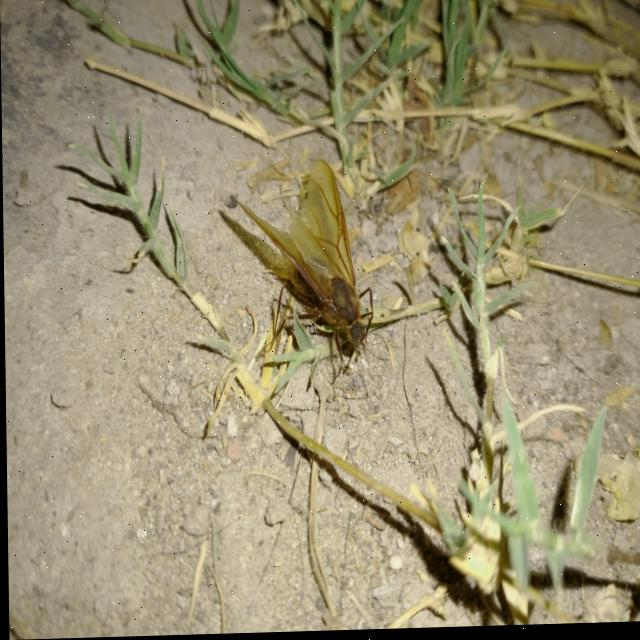Alive-Male-Alate: (230, 159, 399, 390)
